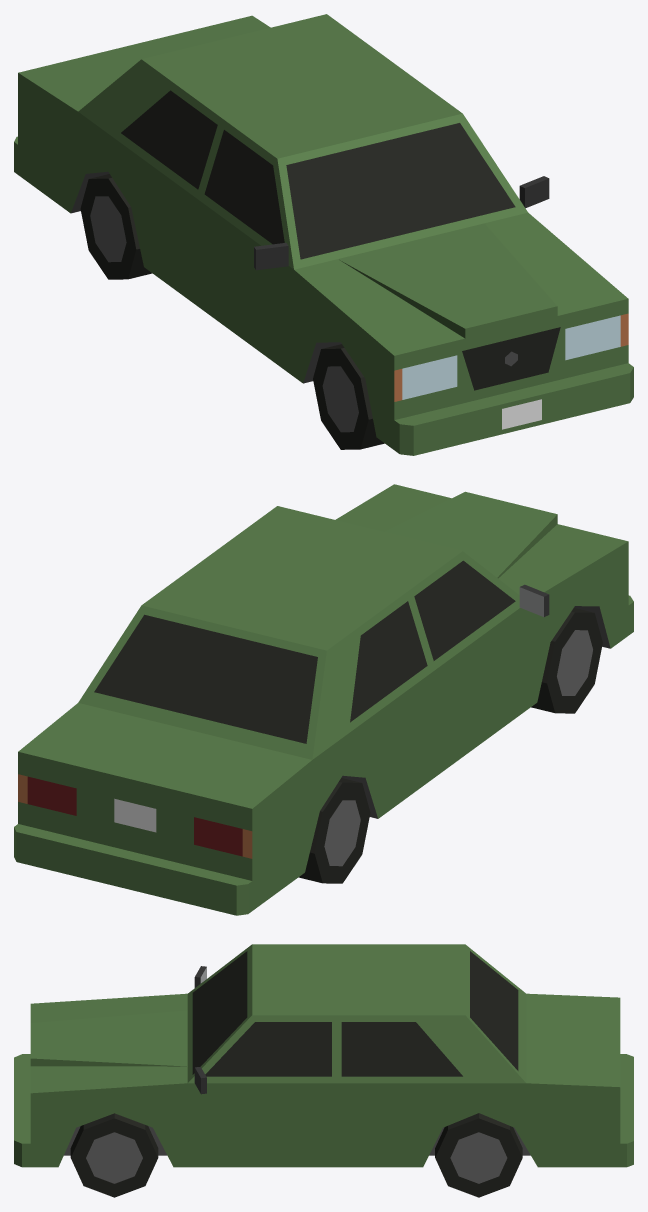
File: Veh_Sedan_02_Green.obj
The picture shows the model from 3 angles, top to bottom: view 1: azimuth 30°, elevation 25°; view 2: azimuth 150°, elevation 25°; view 3: azimuth 270°, elevation 25°; orthographic projection. The views are drawn at different scales.
Size of the model in its own units: 1.16 by 0.8379 by 2.72.
